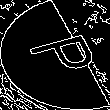P_E: (13, 28, 97, 82)
